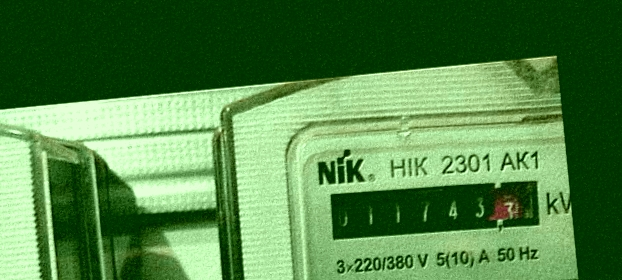0: (335, 201, 351, 229)
1: (362, 198, 378, 227), (390, 196, 405, 225)
3: (471, 192, 487, 221), (501, 199, 518, 222)
4: (445, 196, 461, 222)
7: (417, 197, 433, 223)
screen: (321, 167, 552, 253)
